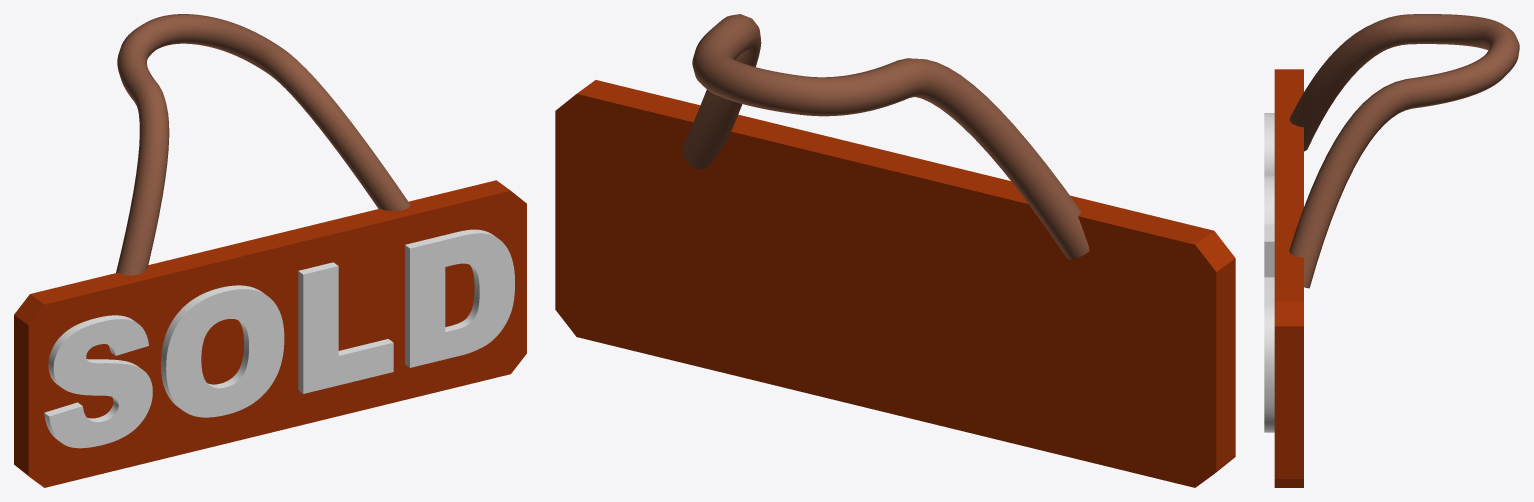
File: SoldSign.fbx
3 renders of one model, left to right at view 1: azimuth 30°, elevation 25°; view 2: azimuth 150°, elevation 25°; view 3: azimuth 270°, elevation 25°, orthographic. The views are drawn at different scales.
Parts seen in each view (by area): view 1: Text; view 2: Text; view 3: Text.
Boxes of the visible parts, <box> form: Text: <box>14,14,526,487</box>; Text: <box>555,14,1235,487</box>; Text: <box>1264,14,1519,487</box>.
Size of the model in its own units: 77.39 by 49.08 by 33.75.
